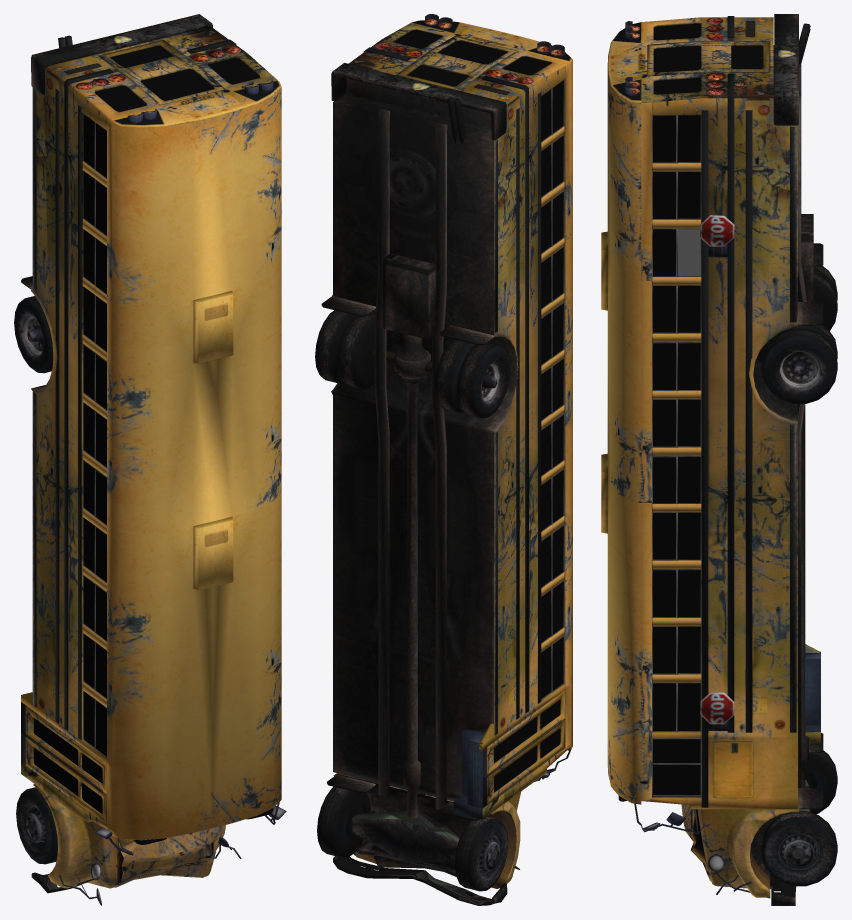
The model's file is turned_bus.obj.
3 views of the same model, side by side, from view 1: azimuth 30°, elevation 25°; view 2: azimuth 150°, elevation 25°; view 3: azimuth 270°, elevation 25° (orthographic). The views are drawn at different scales.
Visible parts, largest first — view 1: SchoolBusWrecked, ScoolBusGlass2; view 2: SchoolBusWrecked, ScoolBusGlass2; view 3: SchoolBusWrecked, ScoolBusGlass2.
Part boxes in pixels (left/top/right/bottom): SchoolBusWrecked: left=14, top=14, right=286, bottom=905; ScoolBusGlass2: left=33, top=46, right=259, bottom=813; SchoolBusWrecked: left=315, top=14, right=572, bottom=905; ScoolBusGlass2: left=393, top=29, right=563, bottom=792; SchoolBusWrecked: left=601, top=14, right=837, bottom=905; ScoolBusGlass2: left=653, top=23, right=763, bottom=795.
Bounding box in the file's own units: 125 × 543 × 141.
Materials: 3 (1 with a texture image).
